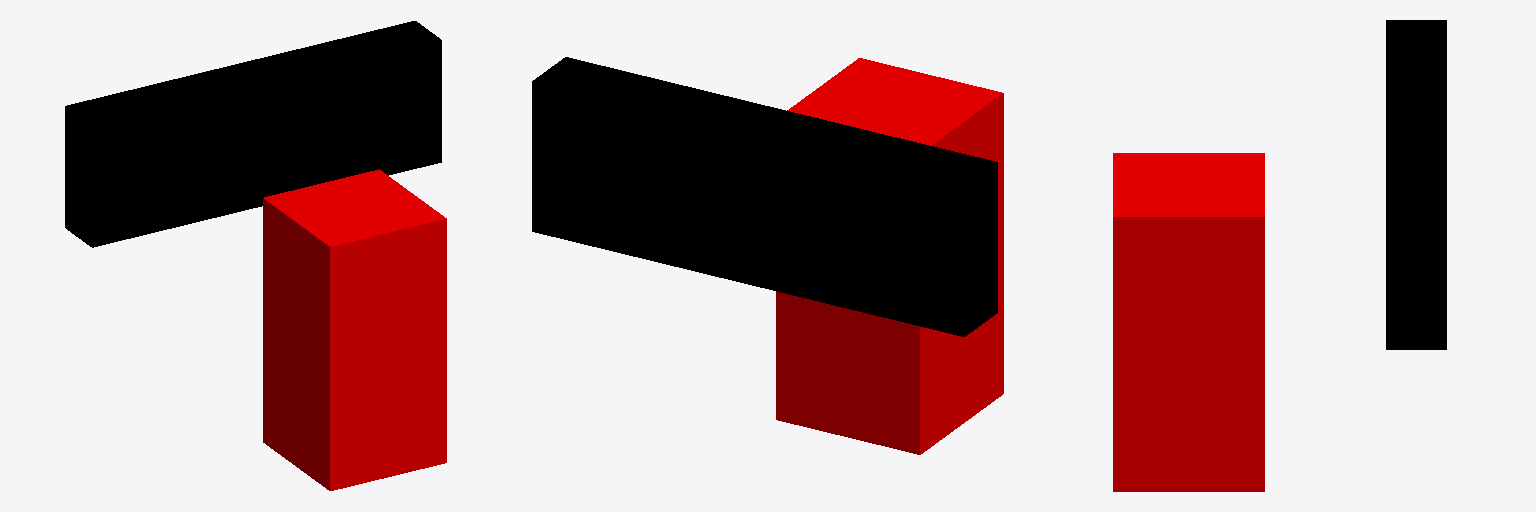
robot.urdf — t_shape:
<?xml version="1.0"?>
<robot name="t_shape">
  <link name="horizontal_bar">
    <visual>
      <geometry>
        <box size="0.15 0.02 0.05"/> 
      </geometry>
      <origin xyz="0 0.05 0"/> 
      <material name="invisible">
        <color rgba="0 0 0 0"/>
      </material>
    </visual>
  </link>

  
  <link name="vertical_bar">
    <visual>
      <geometry>
        <box size="0.05 0.05 0.10"/>
      </geometry>
      <origin xyz="0 0 0"/>
      <material name="red">
        <color rgba="1 0 0 1"/>
      </material>
    </visual>
  </link>

 
  <joint name="fixed_joint" type="fixed">
    <parent link="vertical_bar"/>
    <child link="horizontal_bar"/>
    <origin xyz="0 0.025 0.05"/> 
  </joint>
</robot>

--- Render facts (derived) ---
The picture shows the robot from 3 angles, left to right: view 1: azimuth 30°, elevation 25°; view 2: azimuth 150°, elevation 25°; view 3: azimuth 270°, elevation 25°; orthographic projection.
Model t_shape with 2 links and 1 joints (1 fixed), rooted at vertical_bar, posed all joints at 0.
Visible links, largest first — view 1: horizontal_bar, vertical_bar; view 2: horizontal_bar, vertical_bar; view 3: vertical_bar, horizontal_bar.
Boxes of the visible links, bbox=[...] form: horizontal_bar: bbox=[65, 21, 441, 247]; vertical_bar: bbox=[263, 169, 446, 490]; horizontal_bar: bbox=[532, 57, 997, 336]; vertical_bar: bbox=[776, 58, 1003, 454]; vertical_bar: bbox=[1113, 153, 1264, 491]; horizontal_bar: bbox=[1386, 20, 1446, 349].
Bounding box of the posed robot: 0.15 × 0.11 × 0.125 m (x, y, z).
Geometry: primitives only (box / cylinder / sphere), no mesh files.